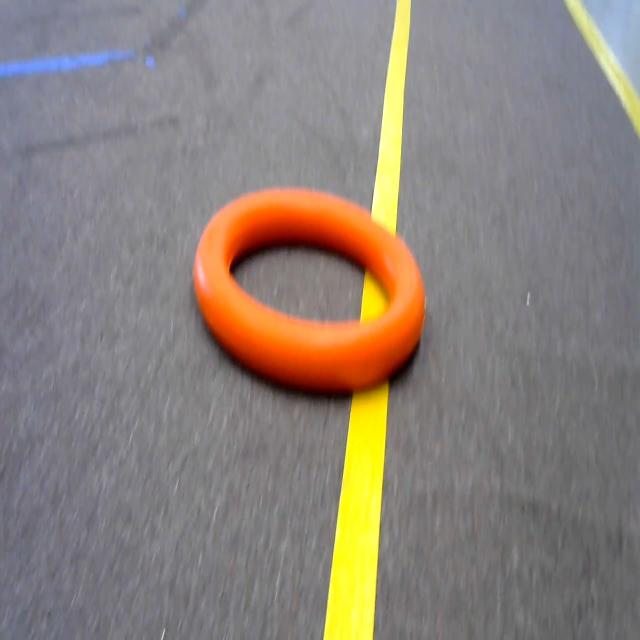note: (176, 153, 440, 416)
